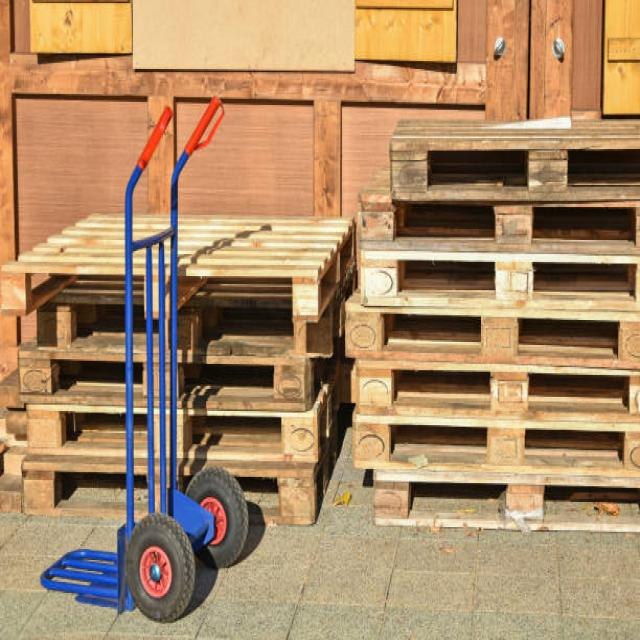Wooden-Pallets: (342, 408, 640, 485), (331, 351, 640, 423), (346, 187, 639, 261), (339, 300, 640, 372), (364, 462, 640, 538), (353, 241, 640, 311), (387, 134, 640, 200)
